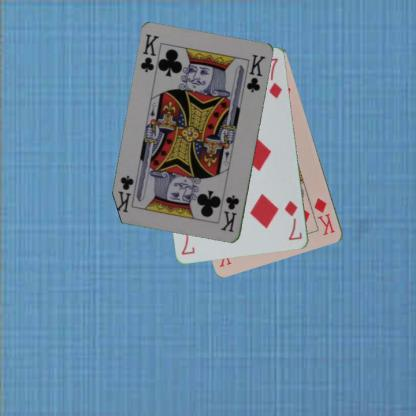7d: (282, 198, 303, 242)
Kc: (138, 32, 164, 78), (218, 192, 240, 233)
Kd: (312, 195, 336, 237)
